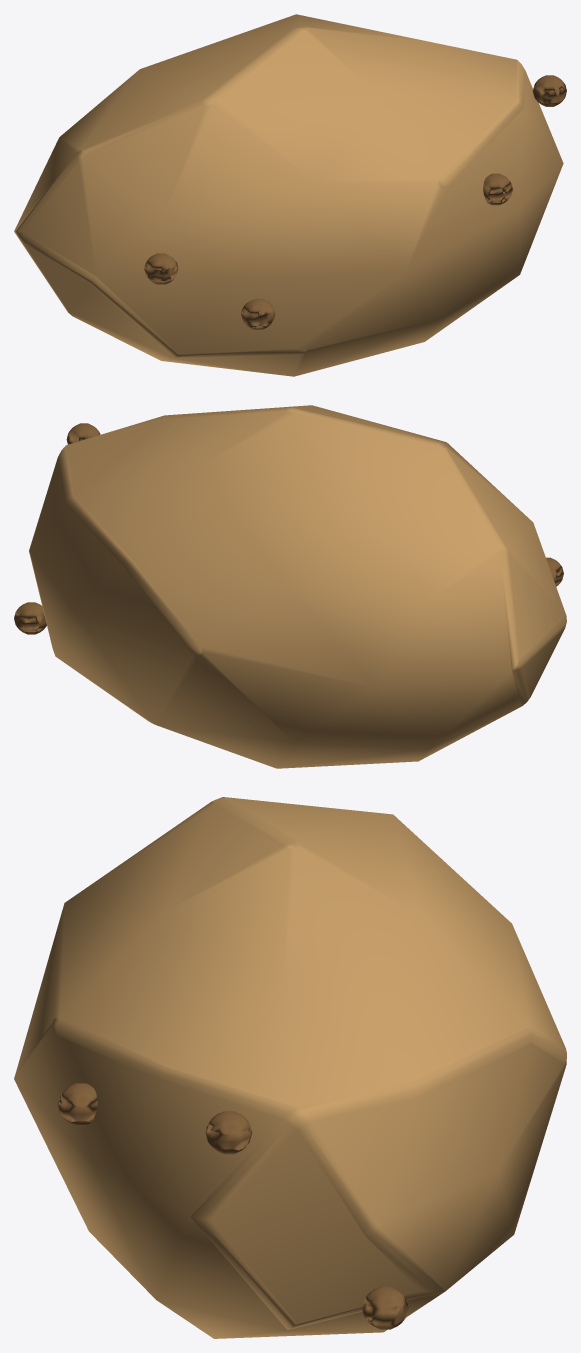
The model's file is Potato.glb.
3 views of the same model, one above another, from view 1: azimuth 30°, elevation 25°; view 2: azimuth 150°, elevation 25°; view 3: azimuth 270°, elevation 25° (orthographic). The views are drawn at different scales.
Visible parts, largest first — view 1: Potato; view 2: Potato; view 3: Potato.
Part boxes in pixels (box(x1,y1,x2,y2)): Potato: box(14, 14, 566, 376); Potato: box(14, 405, 566, 768); Potato: box(14, 797, 566, 1338).
Size of the model in its own units: 0.1351 by 0.0856 by 0.0965.
